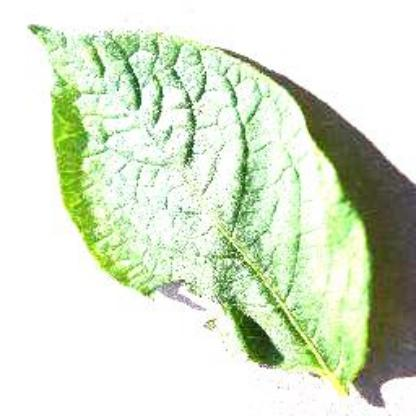Healthy-plant: (17, 14, 386, 398)
